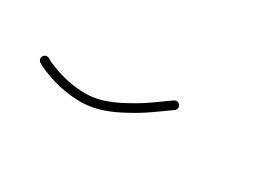r: (99, 86, 190, 140)
